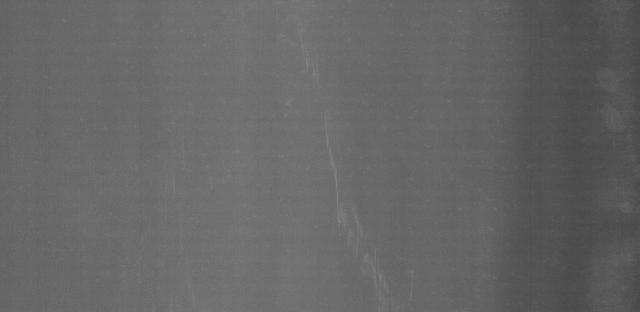silk_spot: (307, 126, 394, 259), (343, 220, 405, 312), (293, 39, 322, 97)
